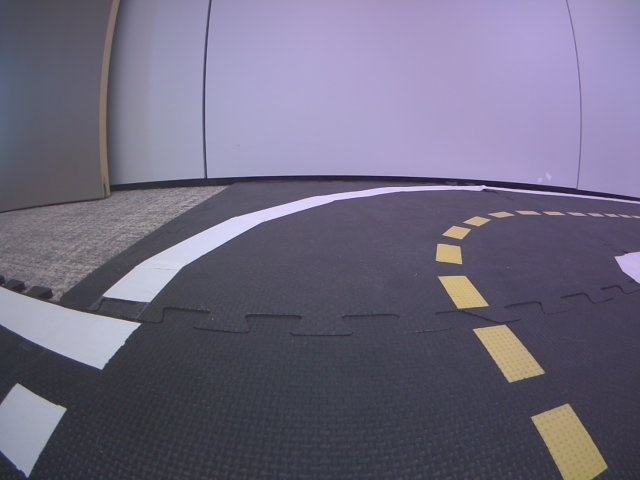freeSpot: (0, 287, 139, 480)
